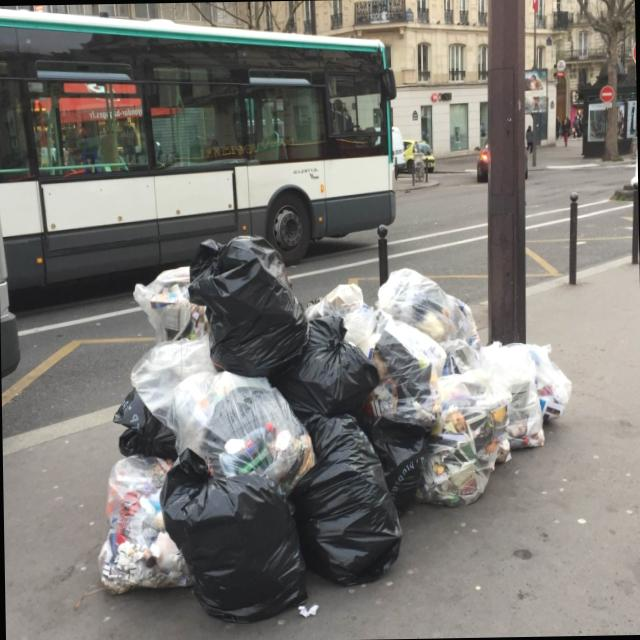garbage: (62, 223, 578, 621)
